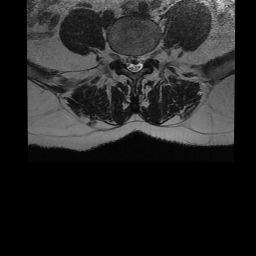CCS_normal: (131, 47, 137, 77)
LFS_normal: (143, 43, 150, 66)
LLS_normal: (137, 46, 143, 73)
RFS_normal: (117, 44, 124, 67)
RLS_normal: (124, 46, 131, 73)
